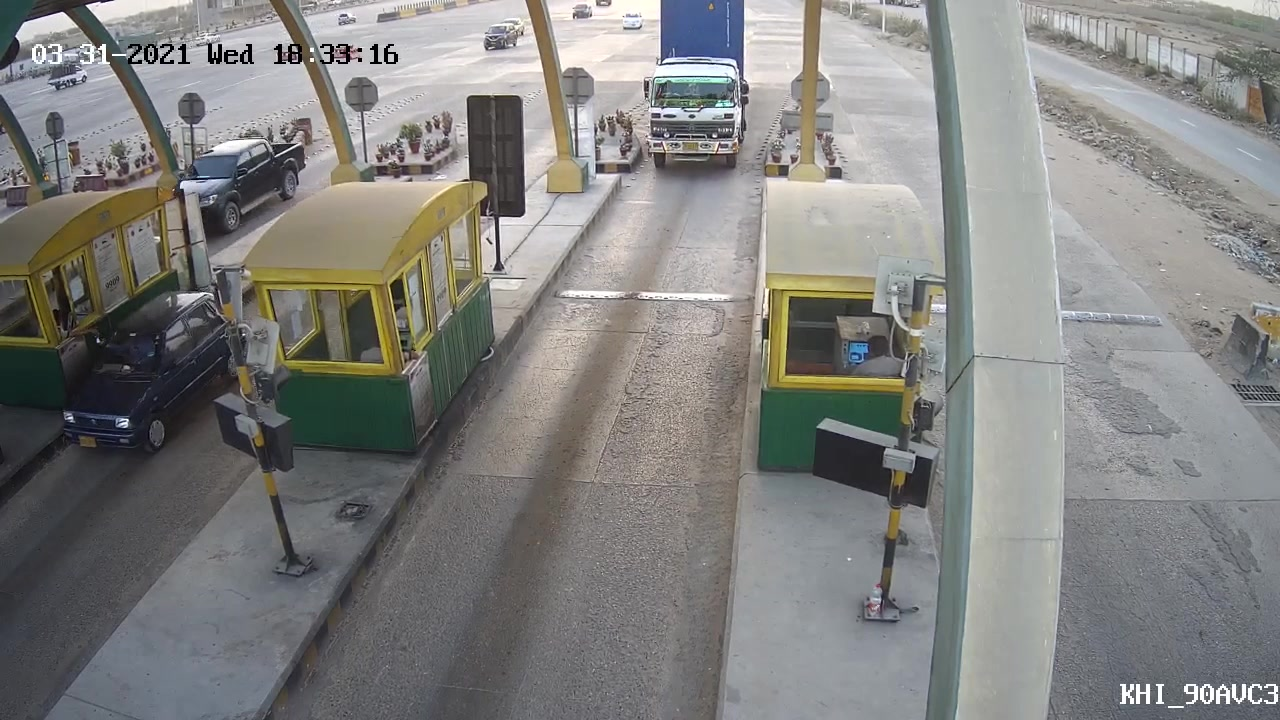F6: (638, 1, 759, 177)
